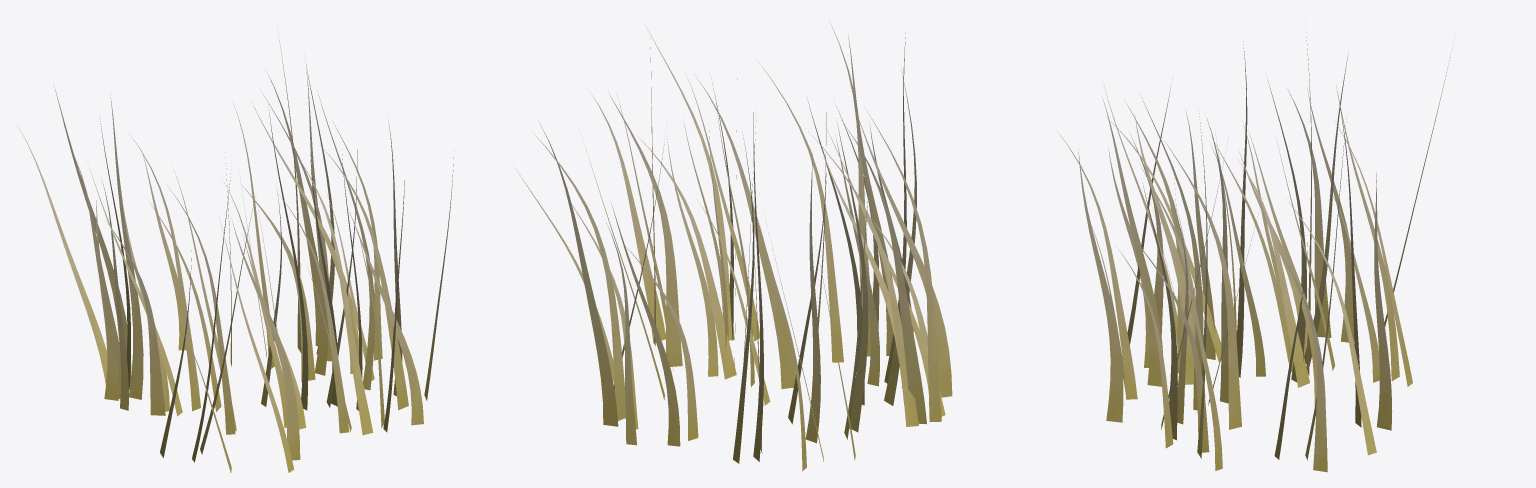
File: mesh-plant-009-frostblade_LOD0.glb
The picture shows the model from 3 angles, left to right: view 1: azimuth 30°, elevation 25°; view 2: azimuth 150°, elevation 25°; view 3: azimuth 270°, elevation 25°; orthographic projection. The views are drawn at different scales.
Parts seen in each view (by area): view 1: geometry_0; view 2: geometry_0; view 3: geometry_0.
Part boxes in pixels (x1=…): geometry_0: x1=18, y1=36, x2=453, y2=472; geometry_0: x1=515, y1=18, x2=952, y2=471; geometry_0: x1=1054, y1=28, x2=1452, y2=472.
Size of the model in its own units: 2.24 by 1.86 by 2.46.
